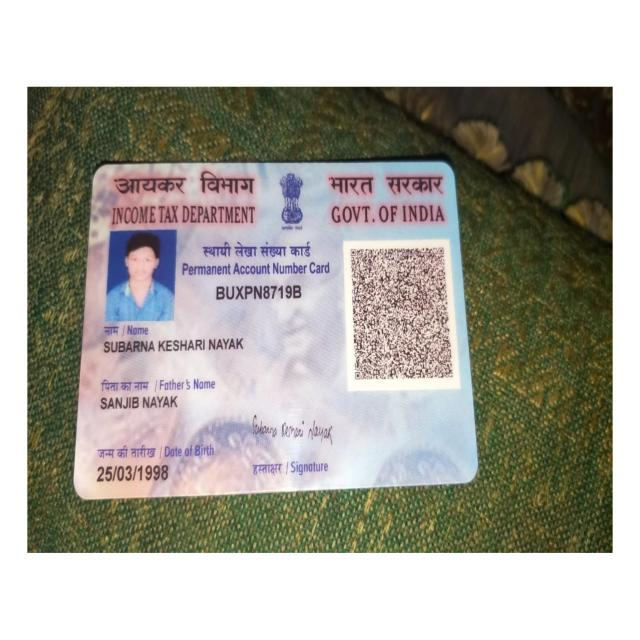pan_card: (77, 158, 473, 491)
